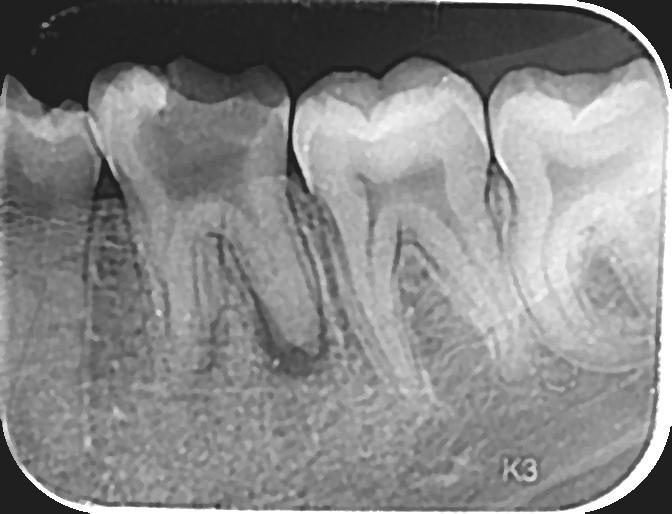individual-tooth-8tto: (287, 54, 543, 398), (84, 58, 328, 373), (487, 48, 668, 367)
